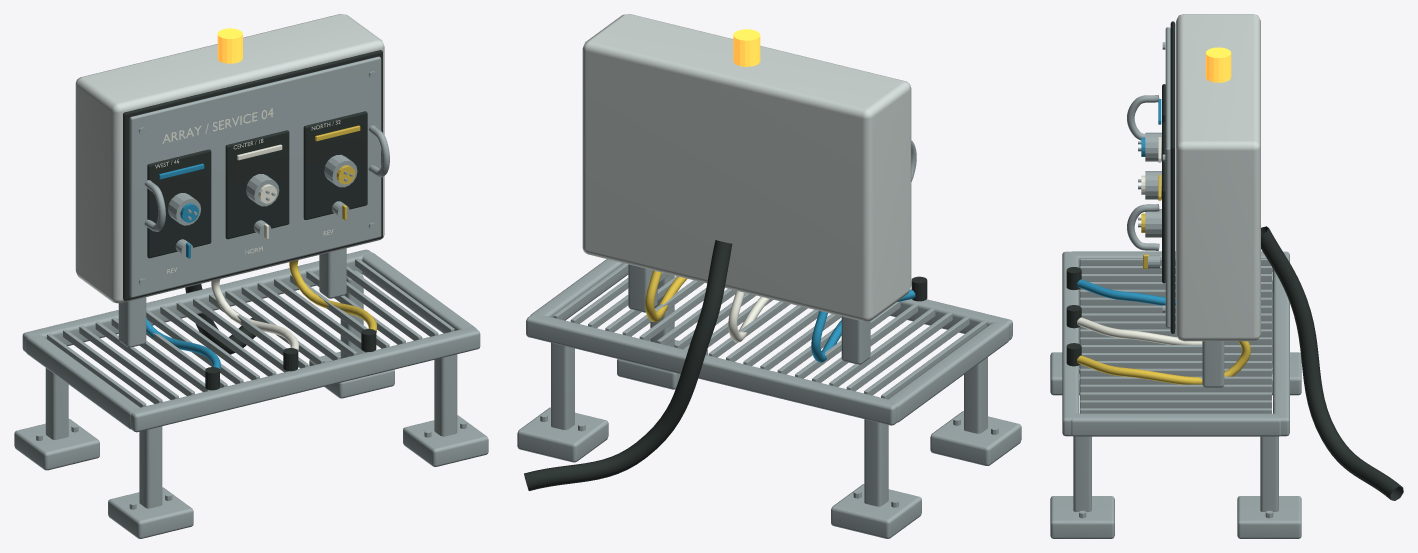
File: array_service_station.glb
The picture shows the model from 3 angles, left to right: view 1: azimuth 30°, elevation 25°; view 2: azimuth 150°, elevation 25°; view 3: azimuth 270°, elevation 25°; orthographic projection. The views are drawn at different scales.
Parts seen in each view (by area): view 1: Array finish Marine stainless, Array finish Weathered white housing, Array finish Sealed rubber, Array finish Yellow connector circuit, Array finish White connector circuit, Array finish Blue connector circuit, Array finish Engraved instrument labels, Array finish Array standby lamp; view 2: Array finish Weathered white housing, Array finish Marine stainless, Array finish Sealed rubber, Array finish Array standby lamp, Array finish Blue connector circuit, Array finish Yellow connector circuit, Array finish White connector circuit; view 3: Array finish Marine stainless, Array finish Weathered white housing, Array finish Sealed rubber, Array finish Yellow connector circuit, Array finish White connector circuit, Array finish Blue connector circuit, Array finish Array standby lamp.
Part boxes in pixels (x1=…): Array finish Marine stainless: x1=14, y1=56, x2=488, y2=538; Array finish Weathered white housing: x1=75, y1=14, x2=384, y2=303; Array finish Sealed rubber: x1=123, y1=50, x2=382, y2=390; Array finish Yellow connector circuit: x1=289, y1=125, x2=376, y2=332; Array finish White connector circuit: x1=211, y1=144, x2=298, y2=351; Array finish Blue connector circuit: x1=146, y1=163, x2=220, y2=371; Array finish Engraved instrument labels: x1=155, y1=108, x2=340, y2=273; Array finish Array standby lamp: x1=217, y1=28, x2=242, y2=63; Array finish Weathered white housing: x1=582, y1=14, x2=911, y2=321; Array finish Marine stainless: x1=517, y1=140, x2=1021, y2=538; Array finish Sealed rubber: x1=524, y1=240, x2=927, y2=490; Array finish Array standby lamp: x1=733, y1=29, x2=760, y2=66; Array finish Blue connector circuit: x1=811, y1=289, x2=915, y2=362; Array finish Yellow connector circuit: x1=645, y1=270, x2=687, y2=321; Array finish White connector circuit: x1=728, y1=290, x2=770, y2=342; Array finish Marine stainless: x1=1050, y1=27, x2=1301, y2=538; Array finish Weathered white housing: x1=1176, y1=14, x2=1260, y2=341; Array finish Sealed rubber: x1=1066, y1=21, x2=1403, y2=500; Array finish Yellow connector circuit: x1=1077, y1=175, x2=1250, y2=384; Array finish White connector circuit: x1=1077, y1=137, x2=1202, y2=344; Array finish Blue connector circuit: x1=1077, y1=99, x2=1175, y2=305; Array finish Array standby lamp: x1=1205, y1=47, x2=1231, y2=82.
Bounding box in the file's own units: 2.38 × 2.61 × 2.08.
